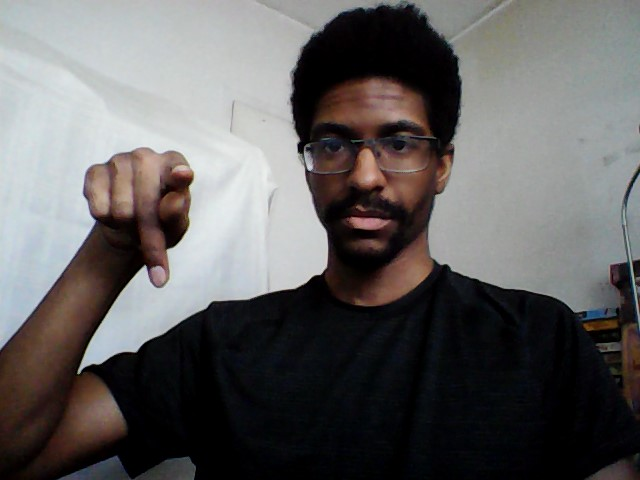p: (79, 144, 198, 298)
